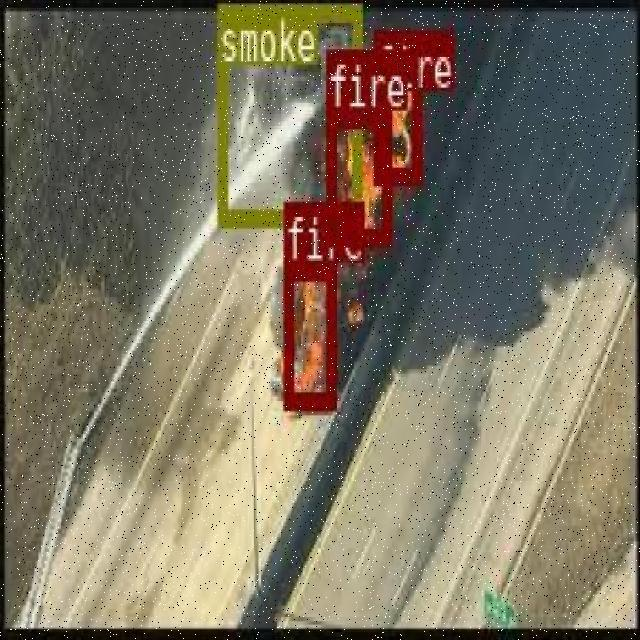Smoke: (253, 1, 324, 224)
